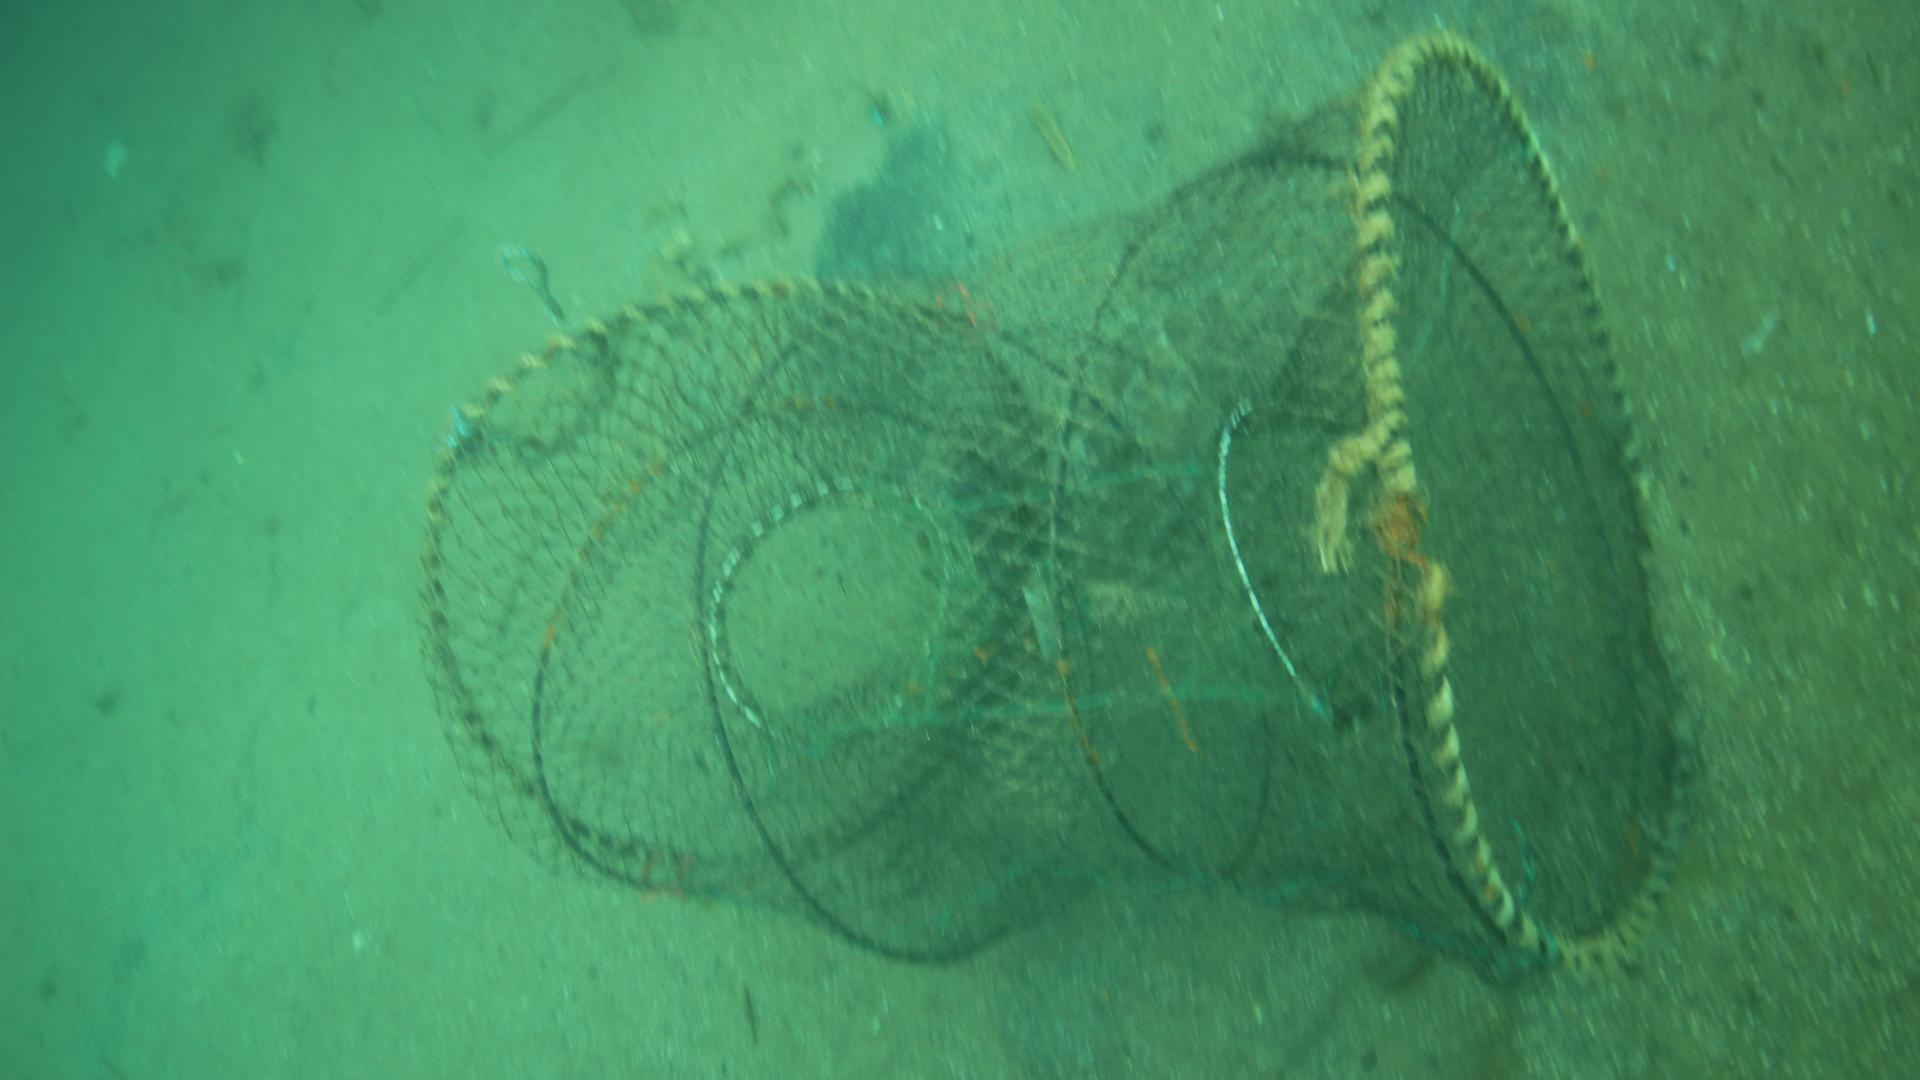spring fish trap: (411, 28, 1695, 988)
